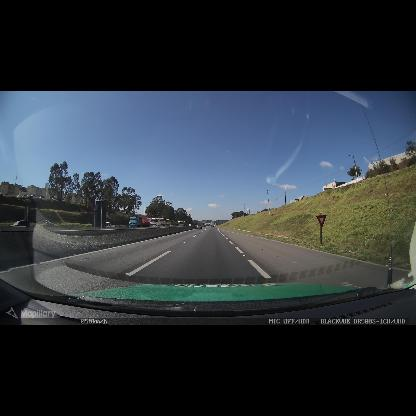R-2: (316, 215, 327, 228)
